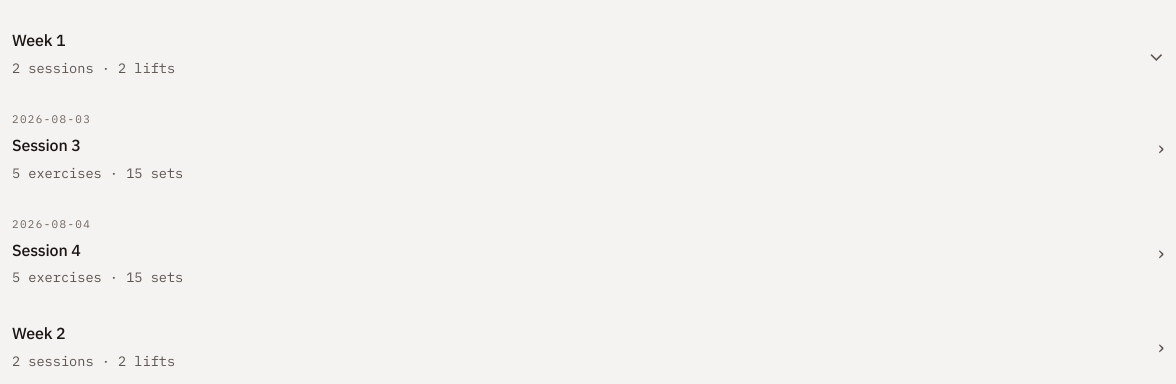
Scenario: SessionList — collapsible weeks › lets the current week be folded shut too
Click the button "Week 1 2 sessions · 2 lifts ⌄".
click(34, 40)  # box [12,12,1164,95]
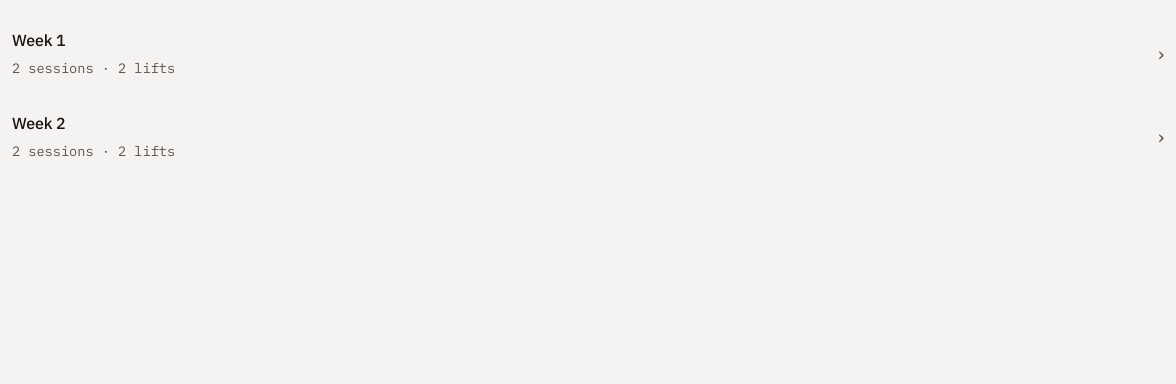
Now the text "Session 3" is gone
